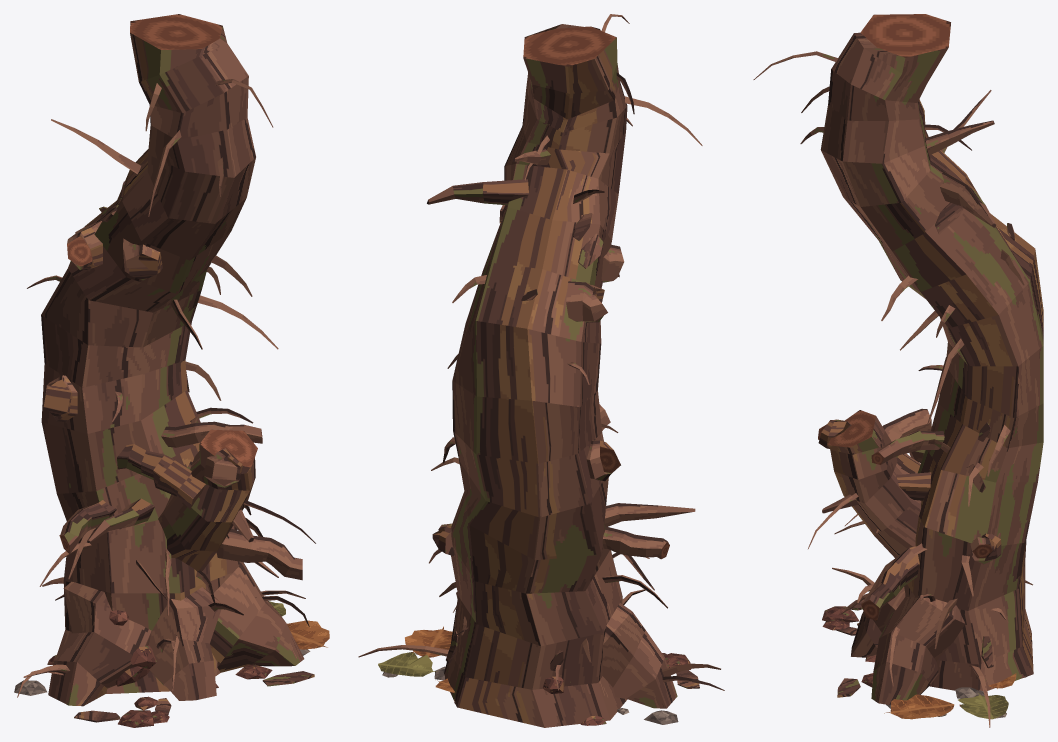
Rendered from SM_AN12_WallRoot.fbx.
The picture shows the model from 3 angles, left to right: view 1: azimuth 30°, elevation 25°; view 2: azimuth 150°, elevation 25°; view 3: azimuth 270°, elevation 25°; orthographic projection. The views are drawn at different scales.
Visible parts, largest first — view 1: AN12a_Root, AN12a_Props; view 2: AN12a_Root, AN12a_Props; view 3: AN12a_Root, AN12a_Props.
Part boxes in pixels (x1,y1,x2,y2): AN12a_Root: [17, 26, 315, 706]; AN12a_Props: [14, 14, 329, 727]; AN12a_Root: [358, 14, 724, 727]; AN12a_Props: [378, 26, 699, 725]; AN12a_Root: [753, 32, 1043, 727]; AN12a_Props: [818, 14, 1029, 719].
Bounding box in the file's own units: 2.17 × 4.04 × 1.71.
